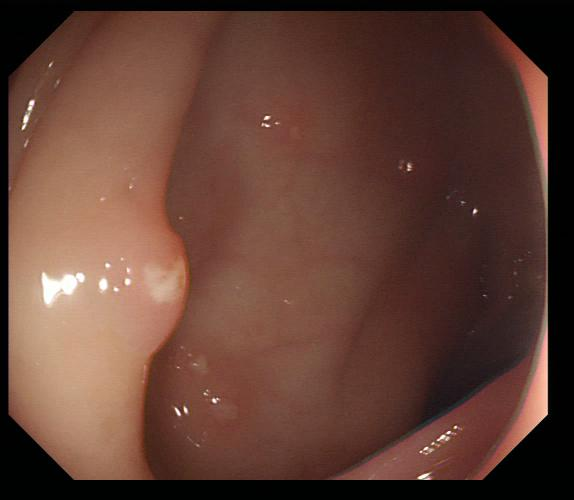polyp: (118, 217, 192, 367), (260, 110, 301, 142), (208, 394, 242, 426), (186, 352, 210, 380)
